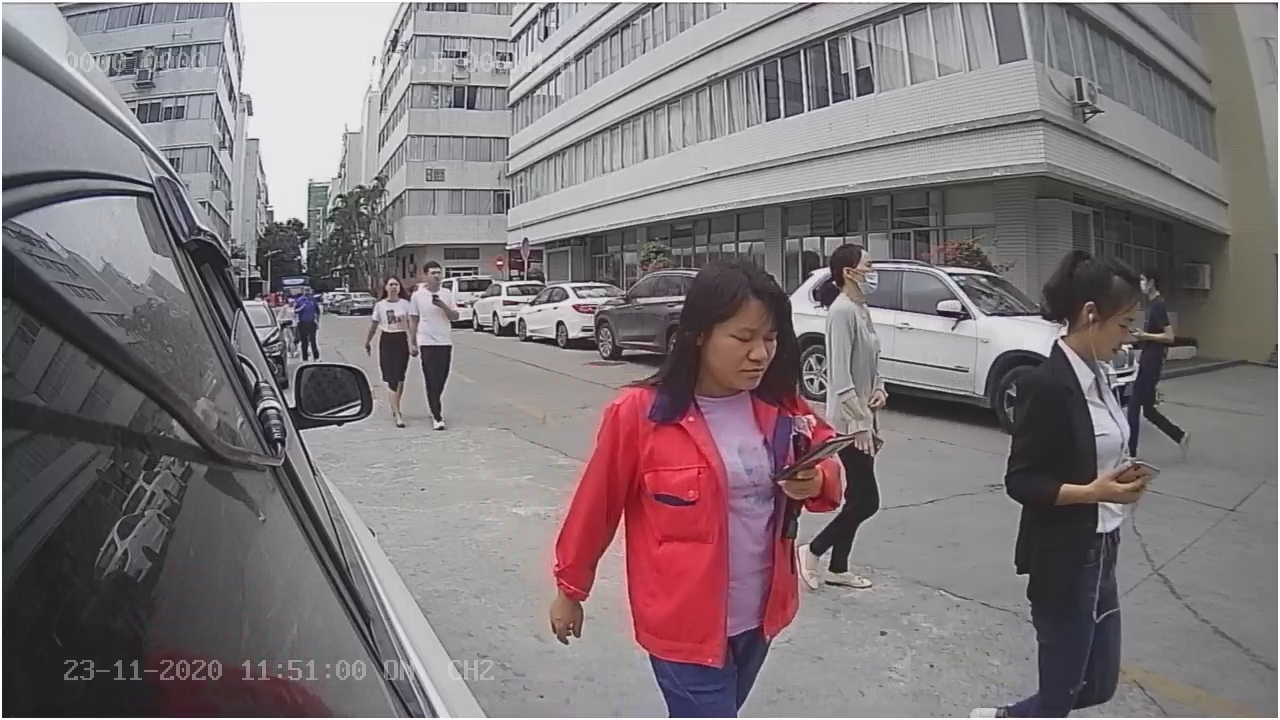person: (799, 219, 897, 418), (363, 272, 425, 369)
